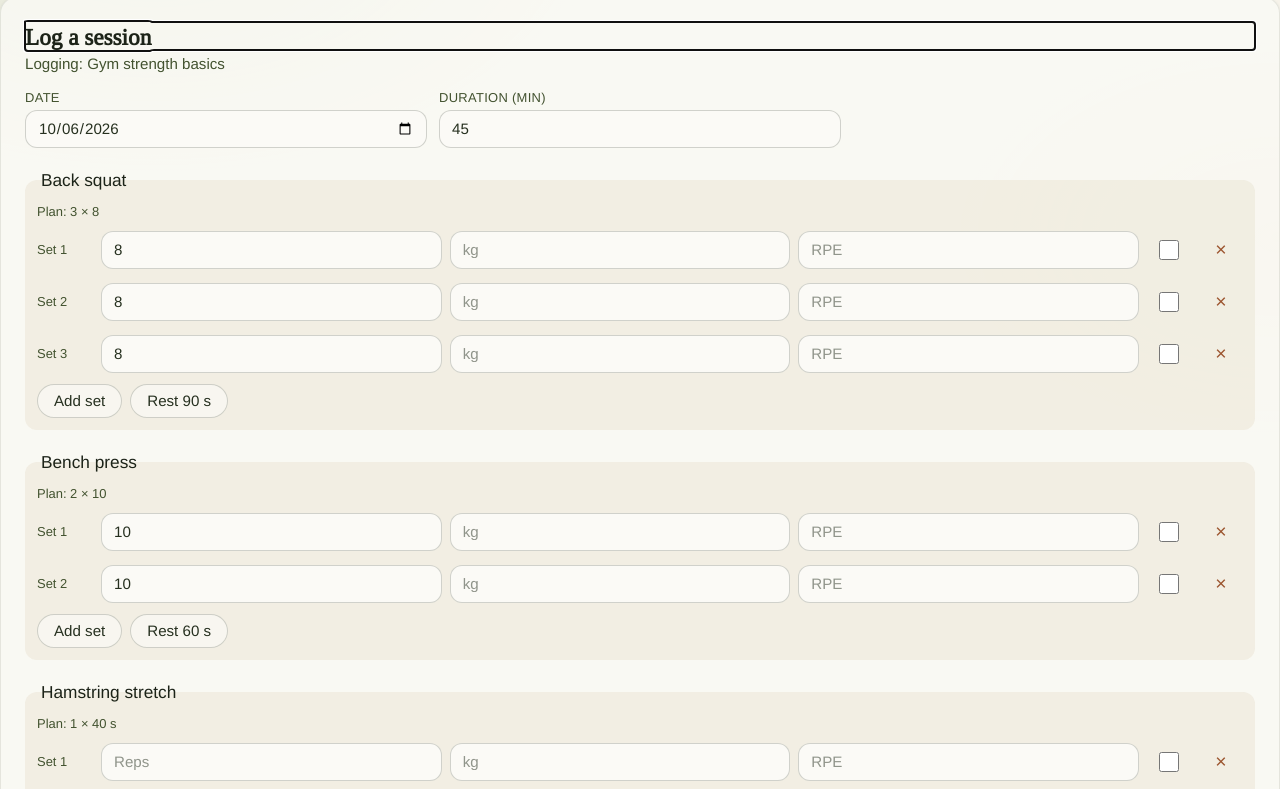
Test: <SessionLogger> › shows field errors and writes nothing when a set is invalid
The width and height of the screenshot is (1280, 789).
Replace the text in the field named "Reps · Set 2 · Back squat" with "lots" at (271, 302), box [101,283,442,321]
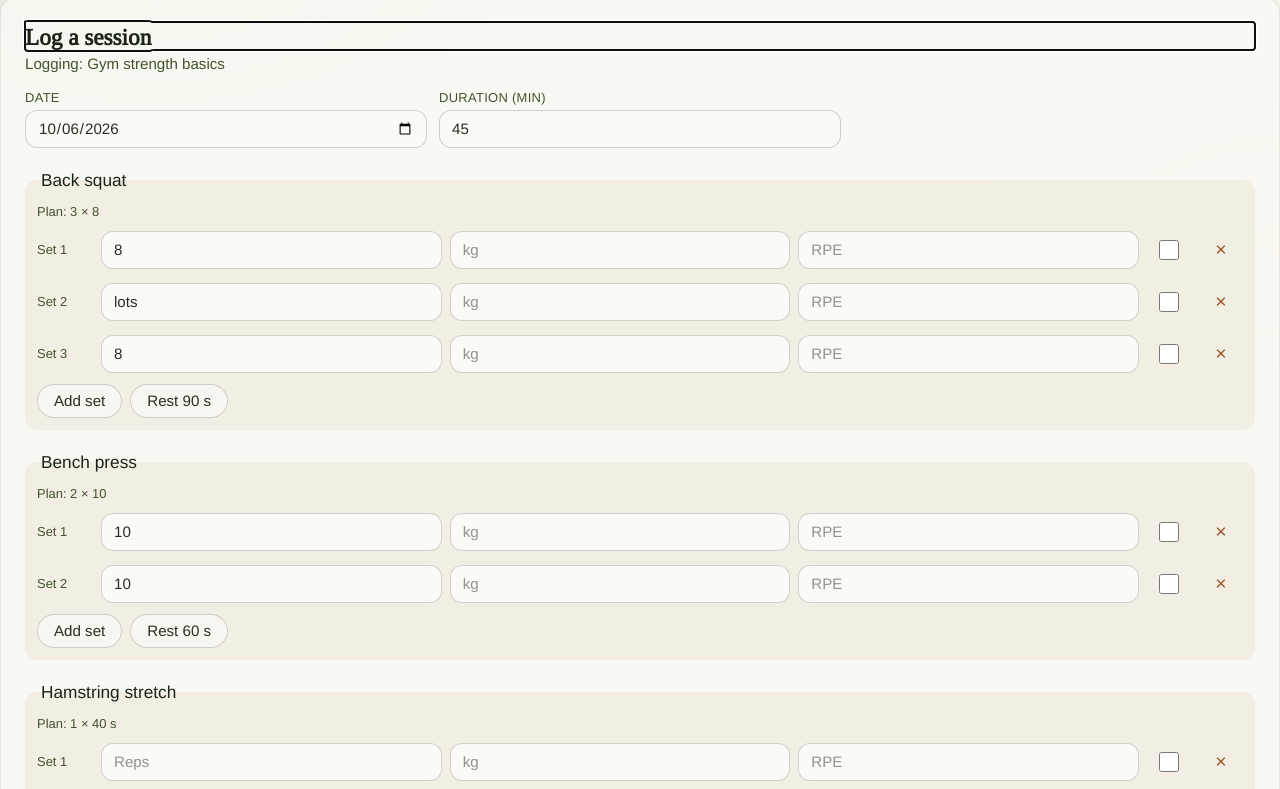
Replace the text in the field labelled "Duration (min)" with "0" at (640, 129), box [439,110,841,148]
(page scrolled)
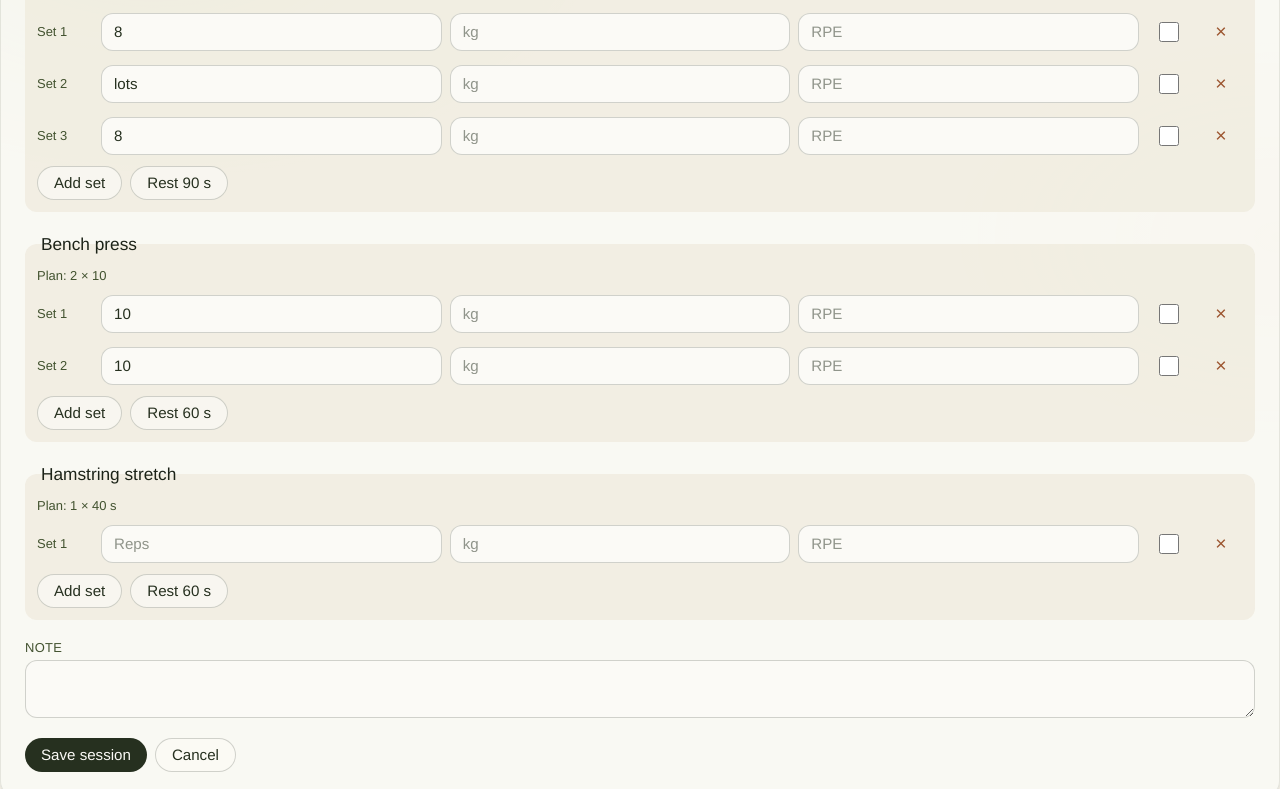
Click the button "Save session" at (86, 755), box [25,738,147,772]
(page scrolled)
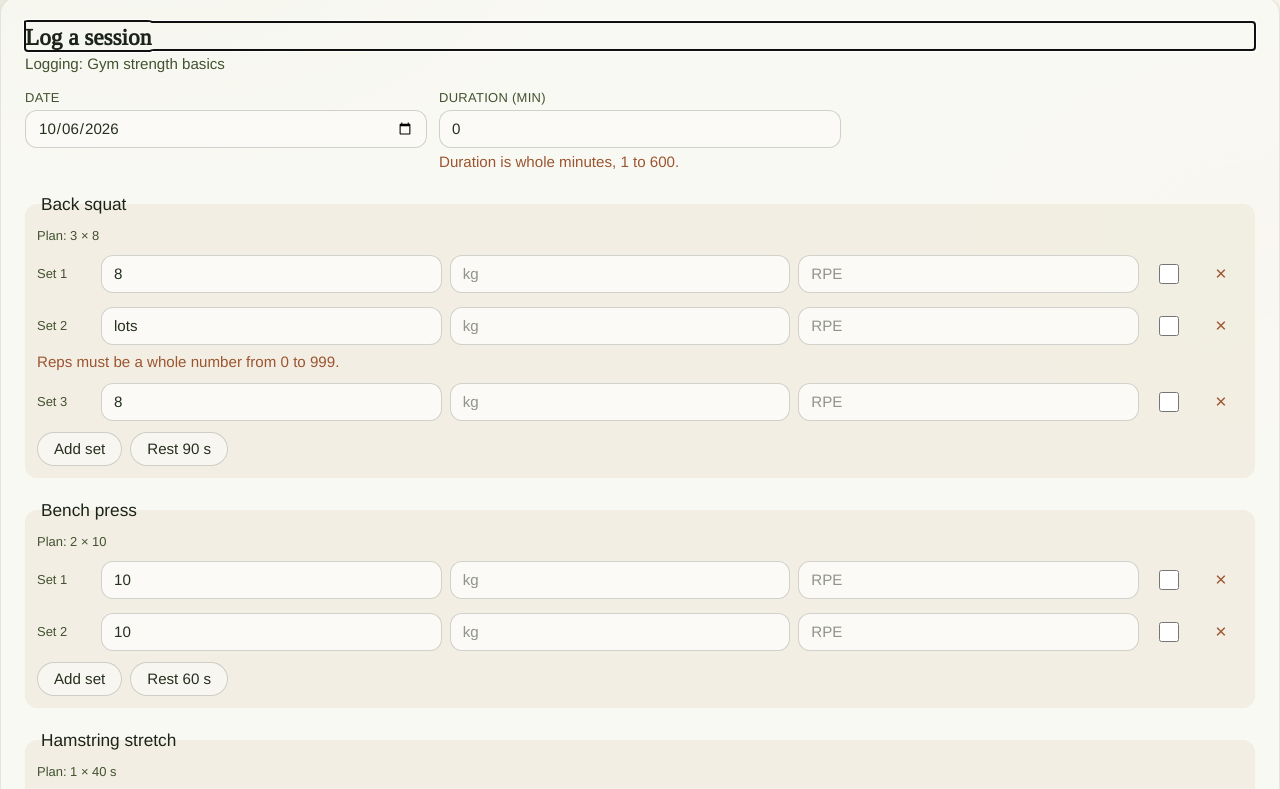
Expected: the text "Reps must be a whole number from 0 to 999." is shown, [37,353,339,370]
Expected: the text "Duration is whole minutes, 1 to 600." is shown, [439,153,679,170]
